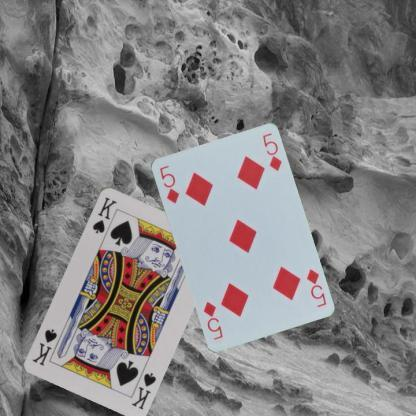5d: (156, 162, 180, 204), (303, 266, 327, 308)
Ks: (128, 369, 158, 410), (90, 193, 118, 234)
